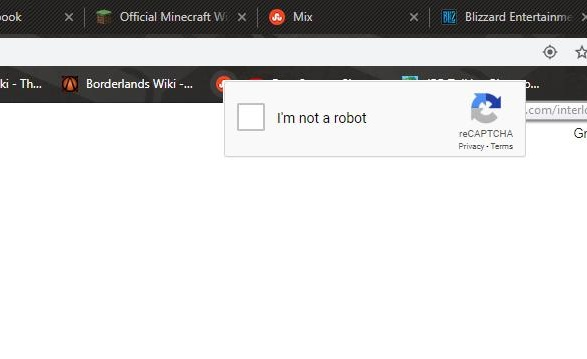captcha: (237, 103, 369, 131)
